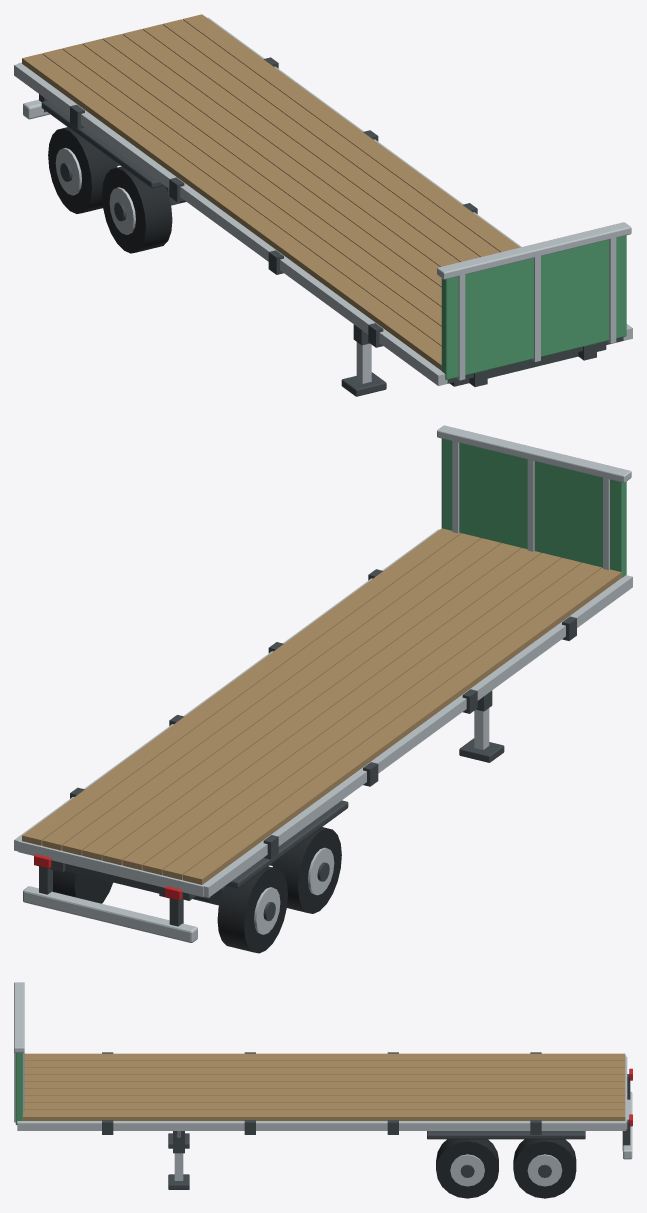
File: semi_flatbed_trailer.glb
The picture shows the model from 3 angles, top to bottom: view 1: azimuth 30°, elevation 25°; view 2: azimuth 150°, elevation 25°; view 3: azimuth 270°, elevation 25°; orthographic projection. The views are drawn at different scales.
Visible parts, largest first — view 1: Flatbed front headboard, Flatbed long wooden deck plank, Flatbed long wooden deck plank.001, Flatbed long wooden deck plank.002, Flatbed side steel rail, Flatbed long wooden deck plank.003, Flatbed long wooden deck plank.004, Flatbed long wooden deck plank.005, Flatbed long wooden deck plank.007, Flatbed long wooden deck plank.006, Flatbed long wooden deck plank.008, Trailer tandem tire (+13 smaller); view 2: Flatbed front headboard, Flatbed long wooden deck plank, Flatbed long wooden deck plank.006, Flatbed long wooden deck plank.007, Flatbed long wooden deck plank.002, Flatbed long wooden deck plank.005, Flatbed long wooden deck plank.001, Flatbed long wooden deck plank.003, Flatbed long wooden deck plank.008, Flatbed long wooden deck plank.004, Flatbed side steel rail, Trailer tandem tire.002 (+12 smaller); view 3: Flatbed long wooden deck plank.008, Flatbed side steel rail.001, Flatbed long wooden deck plank, Flatbed long wooden deck plank.001, Flatbed long wooden deck plank.002, Flatbed long wooden deck plank.003, Flatbed long wooden deck plank.004, Flatbed long wooden deck plank.005, Flatbed long wooden deck plank.006, Flatbed long wooden deck plank.007, Trailer tandem tire.003, Trailer tandem tire.001 (+6 smaller).
Boxes of the visible parts, <box> form: Flatbed front headboard: <box>441,235,626,379</box>; Flatbed long wooden deck plank: <box>22,53,441,370</box>; Flatbed long wooden deck plank.001: <box>42,48,441,346</box>; Flatbed long wooden deck plank.002: <box>62,43,441,326</box>; Flatbed side steel rail: <box>14,63,447,385</box>; Flatbed long wooden deck plank.003: <box>82,39,441,306</box>; Flatbed long wooden deck plank.004: <box>102,34,441,287</box>; Flatbed long wooden deck plank.005: <box>122,29,459,266</box>; Flatbed long wooden deck plank.007: <box>162,19,499,256</box>; Flatbed long wooden deck plank.006: <box>142,24,479,261</box>; Flatbed long wooden deck plank.008: <box>183,14,520,252</box>; Trailer tandem tire: <box>102,166,172,253</box>; Flatbed front headboard: <box>441,438,626,577</box>; Flatbed long wooden deck plank: <box>183,567,621,884</box>; Flatbed long wooden deck plank.006: <box>62,538,501,855</box>; Flatbed long wooden deck plank.007: <box>42,533,480,850</box>; Flatbed long wooden deck plank.002: <box>142,558,581,875</box>; Flatbed long wooden deck plank.005: <box>82,543,521,860</box>; Flatbed long wooden deck plank.001: <box>162,562,601,879</box>; Flatbed long wooden deck plank.003: <box>122,553,561,870</box>; Flatbed long wooden deck plank.008: <box>22,528,460,845</box>; Flatbed long wooden deck plank.004: <box>102,548,541,865</box>; Flatbed side steel rail: <box>200,575,632,897</box>; Trailer tandem tire.002: <box>217,866,287,953</box>; Flatbed long wooden deck plank.008: <box>22,1110,625,1120</box>; Flatbed side steel rail.001: <box>17,1120,626,1130</box>; Flatbed long wooden deck plank: <box>24,1053,625,1060</box>; Flatbed long wooden deck plank.001: <box>24,1061,625,1067</box>; Flatbed long wooden deck plank.002: <box>24,1068,625,1074</box>; Flatbed long wooden deck plank.003: <box>24,1075,625,1081</box>; Flatbed long wooden deck plank.004: <box>24,1082,625,1088</box>; Flatbed long wooden deck plank.005: <box>24,1089,625,1095</box>; Flatbed long wooden deck plank.006: <box>24,1096,625,1102</box>; Flatbed long wooden deck plank.007: <box>24,1103,625,1109</box>; Trailer tandem tire.003: <box>513,1139,576,1198</box>; Trailer tandem tire.001: <box>436,1139,498,1198</box>.
Size of the model in its own units: 2.87 by 2.77 by 10.41.
